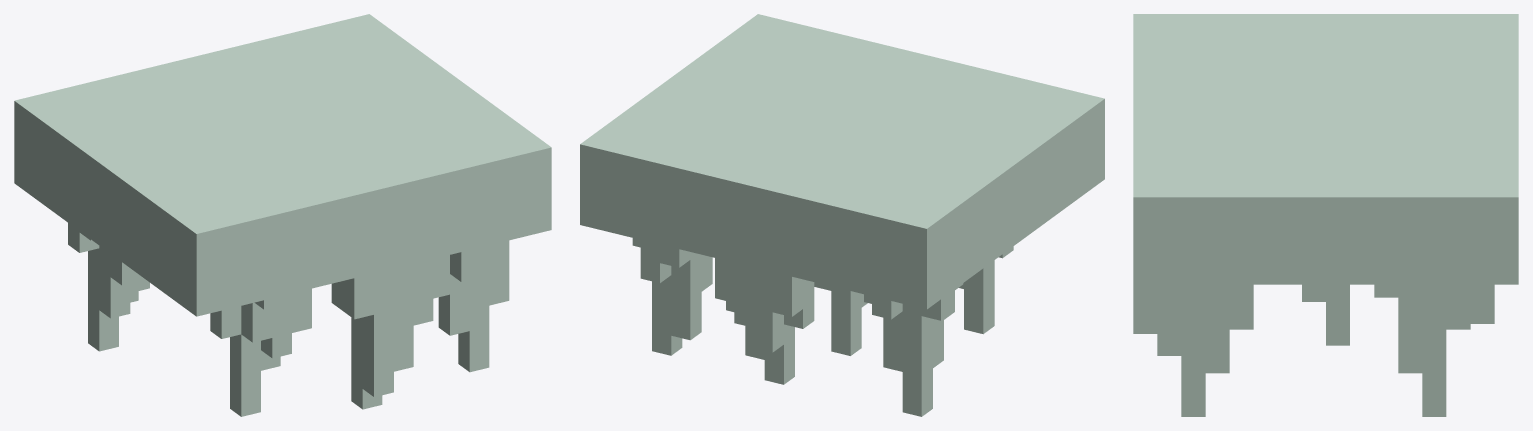
The model's file is Floors-0.obj.
The picture shows the model from 3 angles, left to right: view 1: azimuth 30°, elevation 25°; view 2: azimuth 150°, elevation 25°; view 3: azimuth 270°, elevation 25°; orthographic projection. The views are drawn at different scales.
Size of the model in its own units: 1.8 by 1.1 by 1.6.
